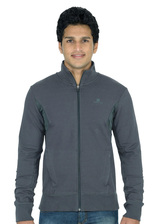clothoes: (13, 58, 150, 221)
